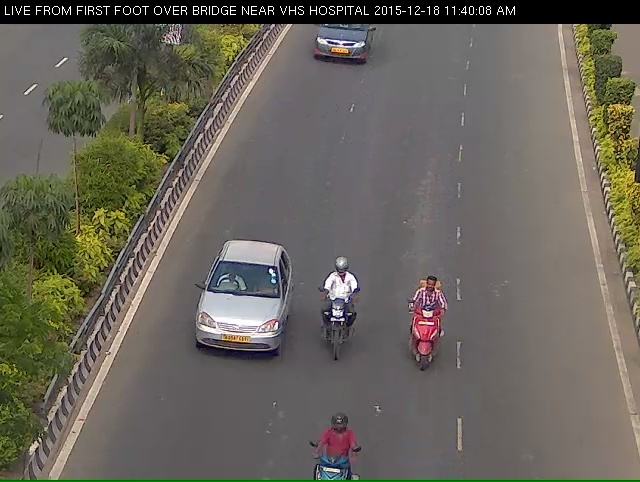Car: (180, 261, 282, 384)
Person: (310, 272, 360, 389), (407, 292, 441, 397)
